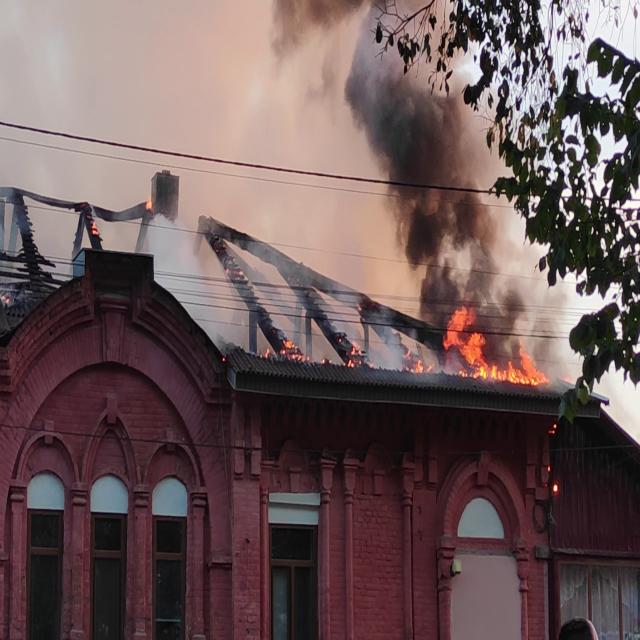fire: (445, 307, 546, 387)
smoke: (383, 72, 480, 244)
